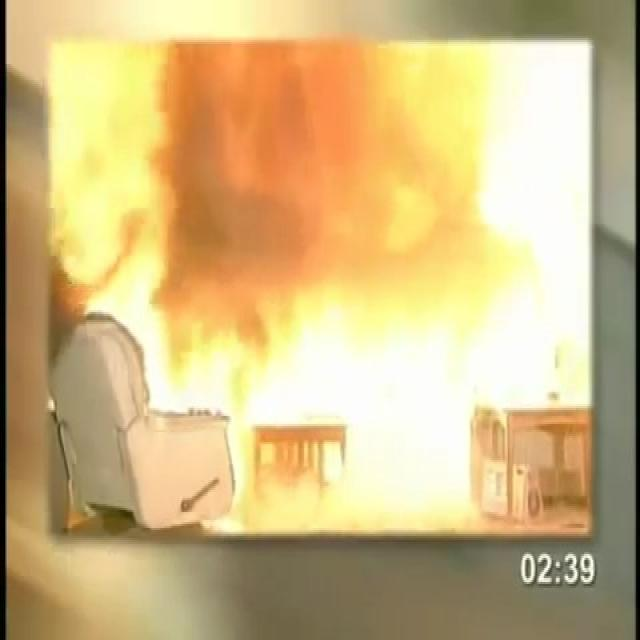Fire: (46, 38, 544, 471)
